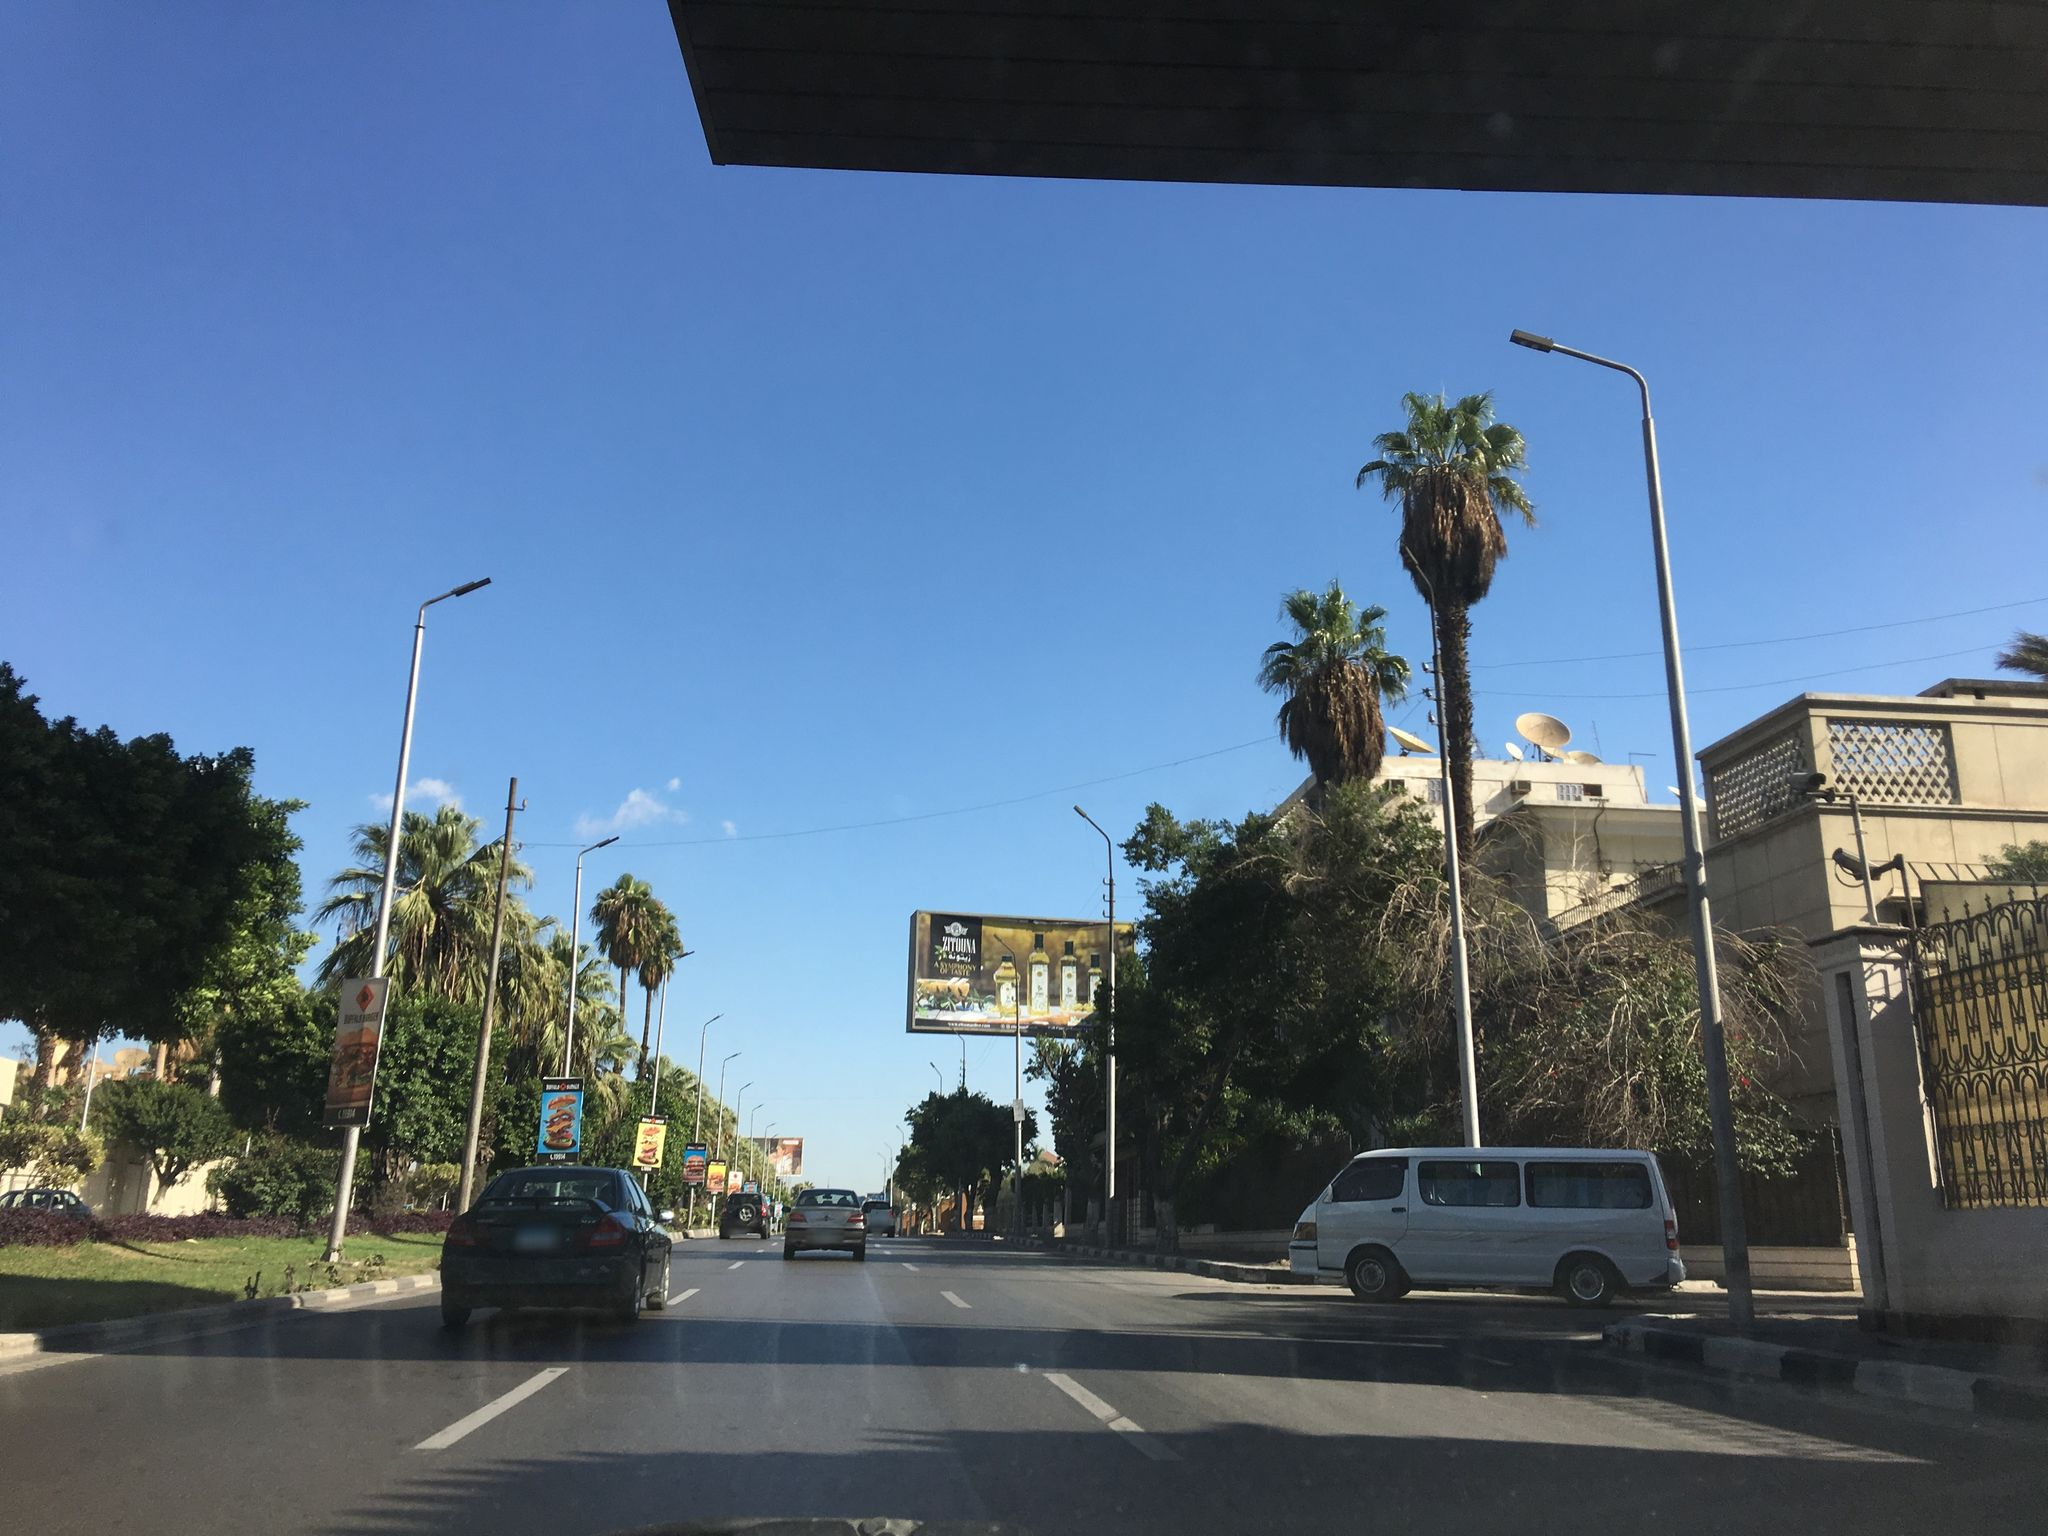car: (1284, 1144, 1690, 1304), (439, 1163, 676, 1325), (780, 1187, 872, 1260), (0, 1187, 90, 1218), (718, 1191, 772, 1241), (860, 1199, 897, 1238)
